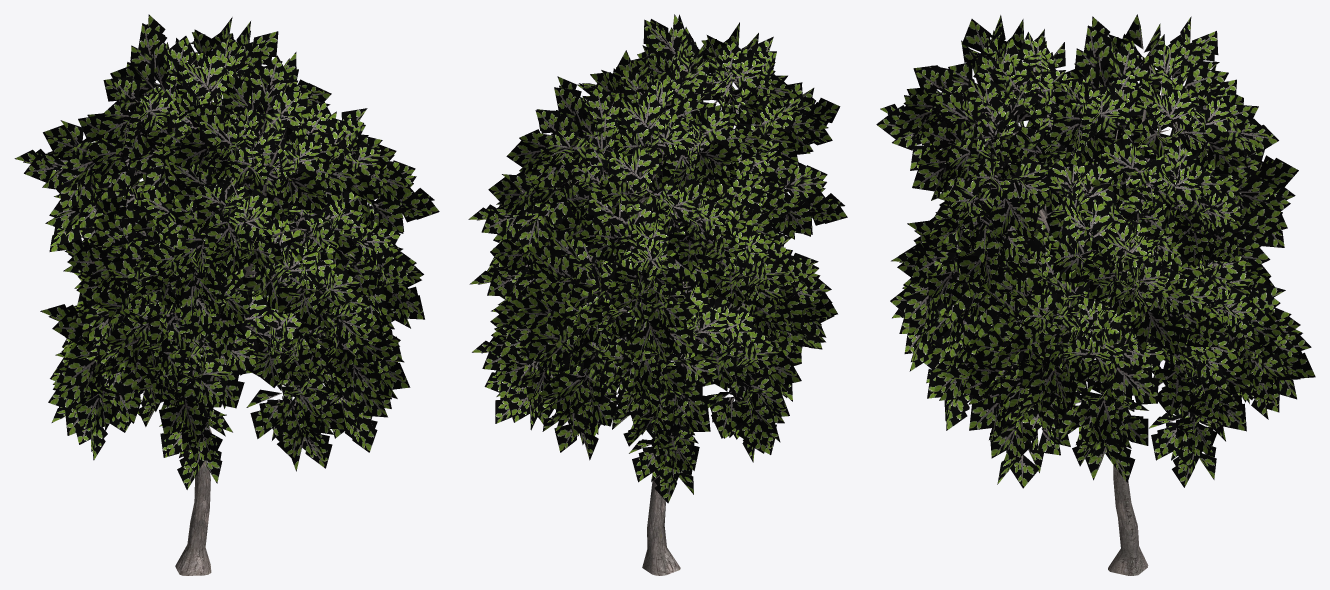
The model's file is tree16.glb.
The picture shows the model from 3 angles, left to right: view 1: azimuth 30°, elevation 25°; view 2: azimuth 150°, elevation 25°; view 3: azimuth 270°, elevation 25°; orthographic projection. The views are drawn at different scales.
Visible parts, largest first — view 1: Tree16; view 2: Tree16; view 3: Tree16.
Boxes of the visible parts, x1,y1,x2,y2 form: Tree16: (14, 14, 439, 575); Tree16: (468, 14, 847, 575); Tree16: (876, 14, 1315, 575).
Bounding box in the file's own units: 4.04 × 6.53 × 4.7.
Materials: 2 (2 with a texture image).
